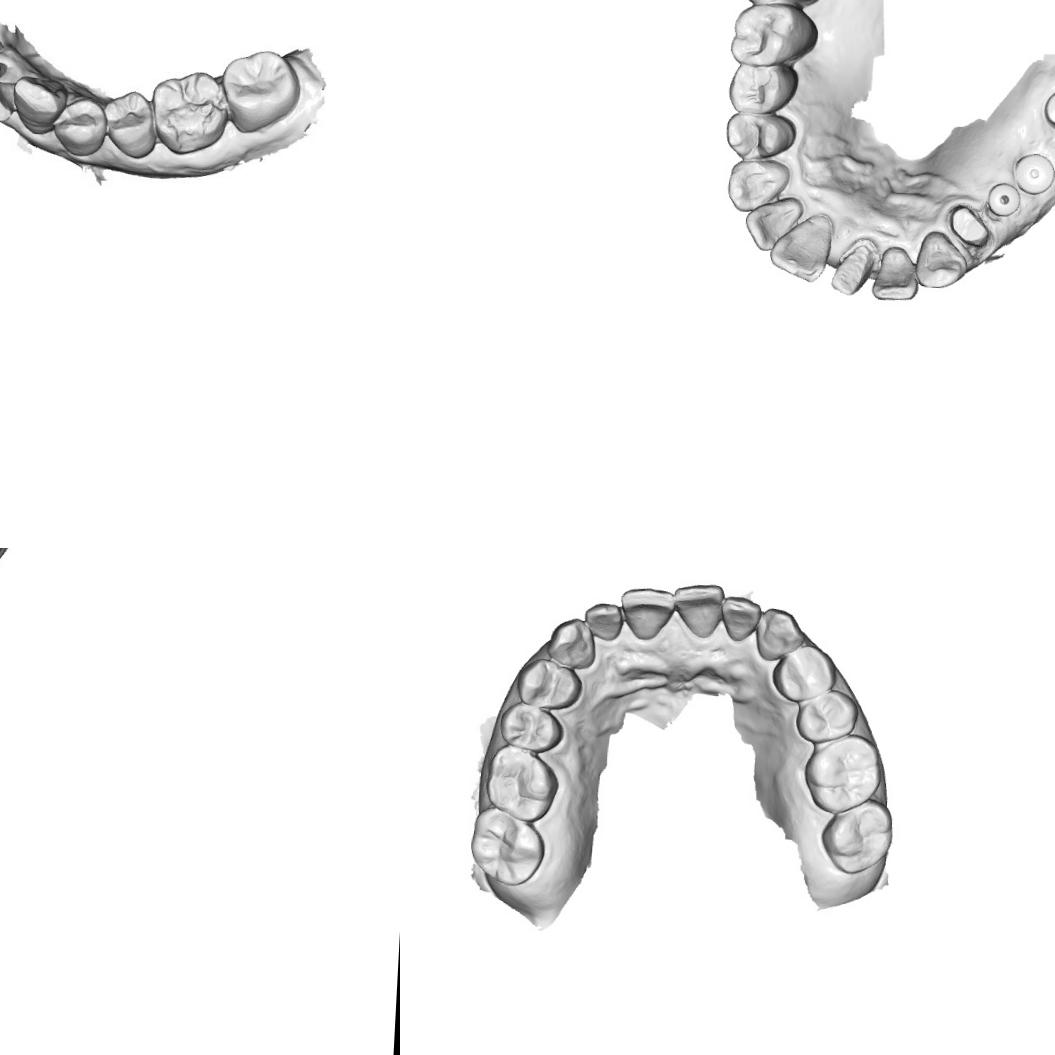canine: (10, 73, 70, 137), (912, 227, 970, 291), (725, 157, 790, 213), (752, 606, 807, 663), (544, 614, 598, 672)
crown: (828, 241, 871, 297), (947, 201, 995, 250)
implant: (1012, 152, 1055, 195), (986, 180, 1024, 216), (1043, 87, 1055, 130)
incisor: (766, 208, 832, 286), (741, 194, 804, 256), (617, 585, 676, 642), (672, 580, 726, 639), (870, 241, 920, 303), (719, 594, 762, 642), (582, 598, 625, 642), (0, 77, 17, 123)
molar: (148, 67, 230, 159), (221, 45, 301, 137), (467, 804, 548, 888), (802, 733, 882, 816), (725, 0, 824, 67), (484, 742, 562, 823), (818, 796, 895, 876)
premolar: (726, 57, 802, 118), (723, 108, 800, 164), (770, 642, 838, 705), (100, 88, 158, 161), (792, 688, 860, 744), (514, 657, 584, 711), (497, 700, 565, 754), (50, 96, 108, 159)
